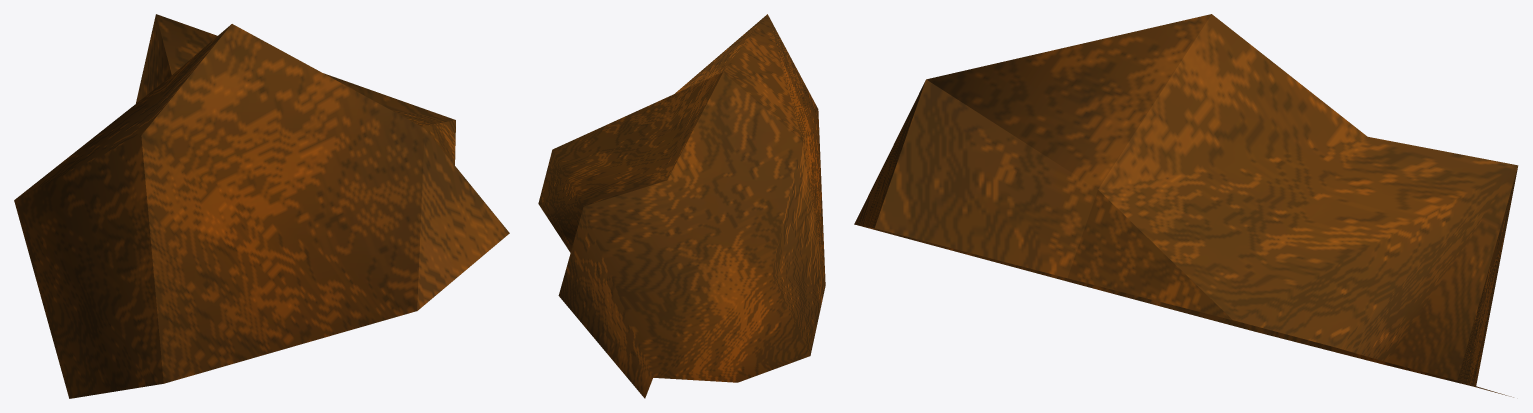
File: OreSmall.FBX
The picture shows the model from 3 angles, left to right: view 1: azimuth 30°, elevation 25°; view 2: azimuth 150°, elevation 25°; view 3: azimuth 270°, elevation 25°; orthographic projection. The views are drawn at different scales.
Visible parts, largest first — view 1: Box008; view 2: Box008; view 3: Box008.
Part boxes in pixels (<box>): Box008: <box>14,14,509,398</box>; Box008: <box>538,14,825,398</box>; Box008: <box>854,14,1518,397</box>.
Bounding box in the file's own units: 52.41 × 48.05 × 71.71.
